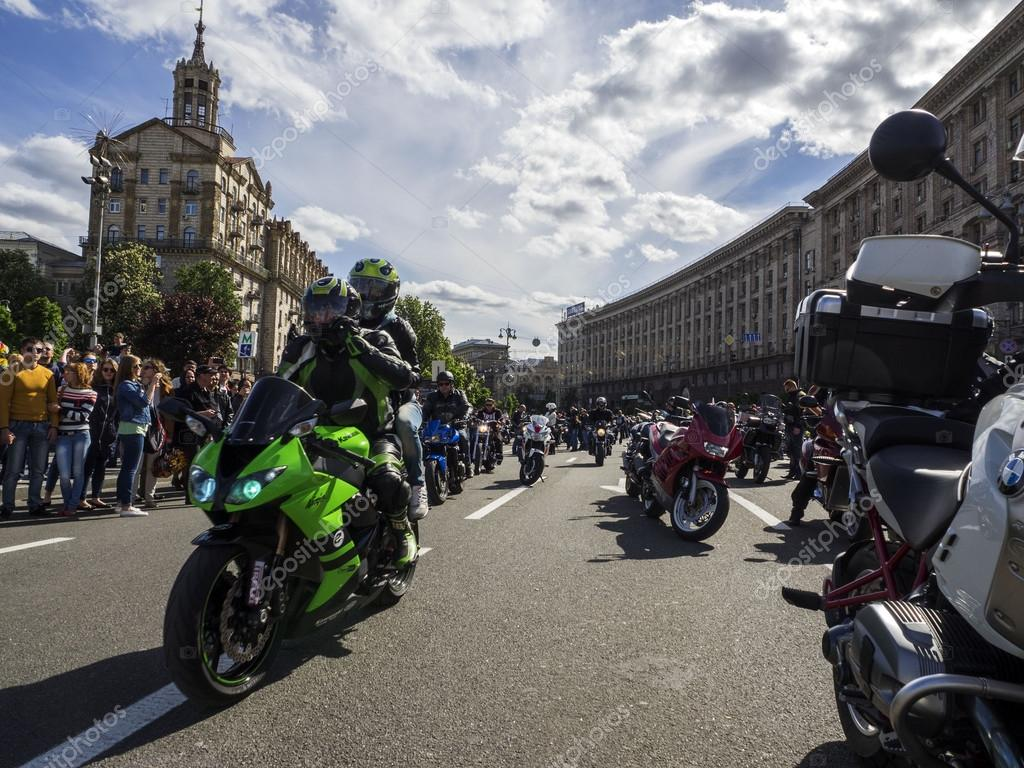helmet: (343, 253, 413, 312), (300, 277, 351, 337)
